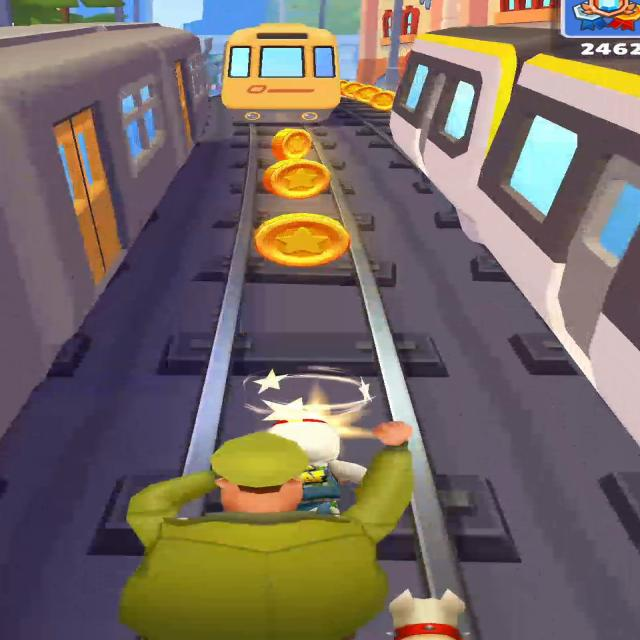police: (119, 422, 412, 640)
train: (391, 26, 639, 442), (0, 23, 207, 437), (222, 23, 341, 124)
